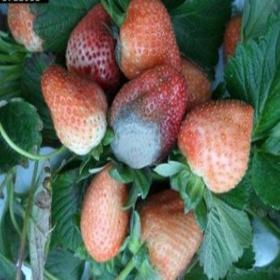Gray Mold: (107, 66, 188, 169)
